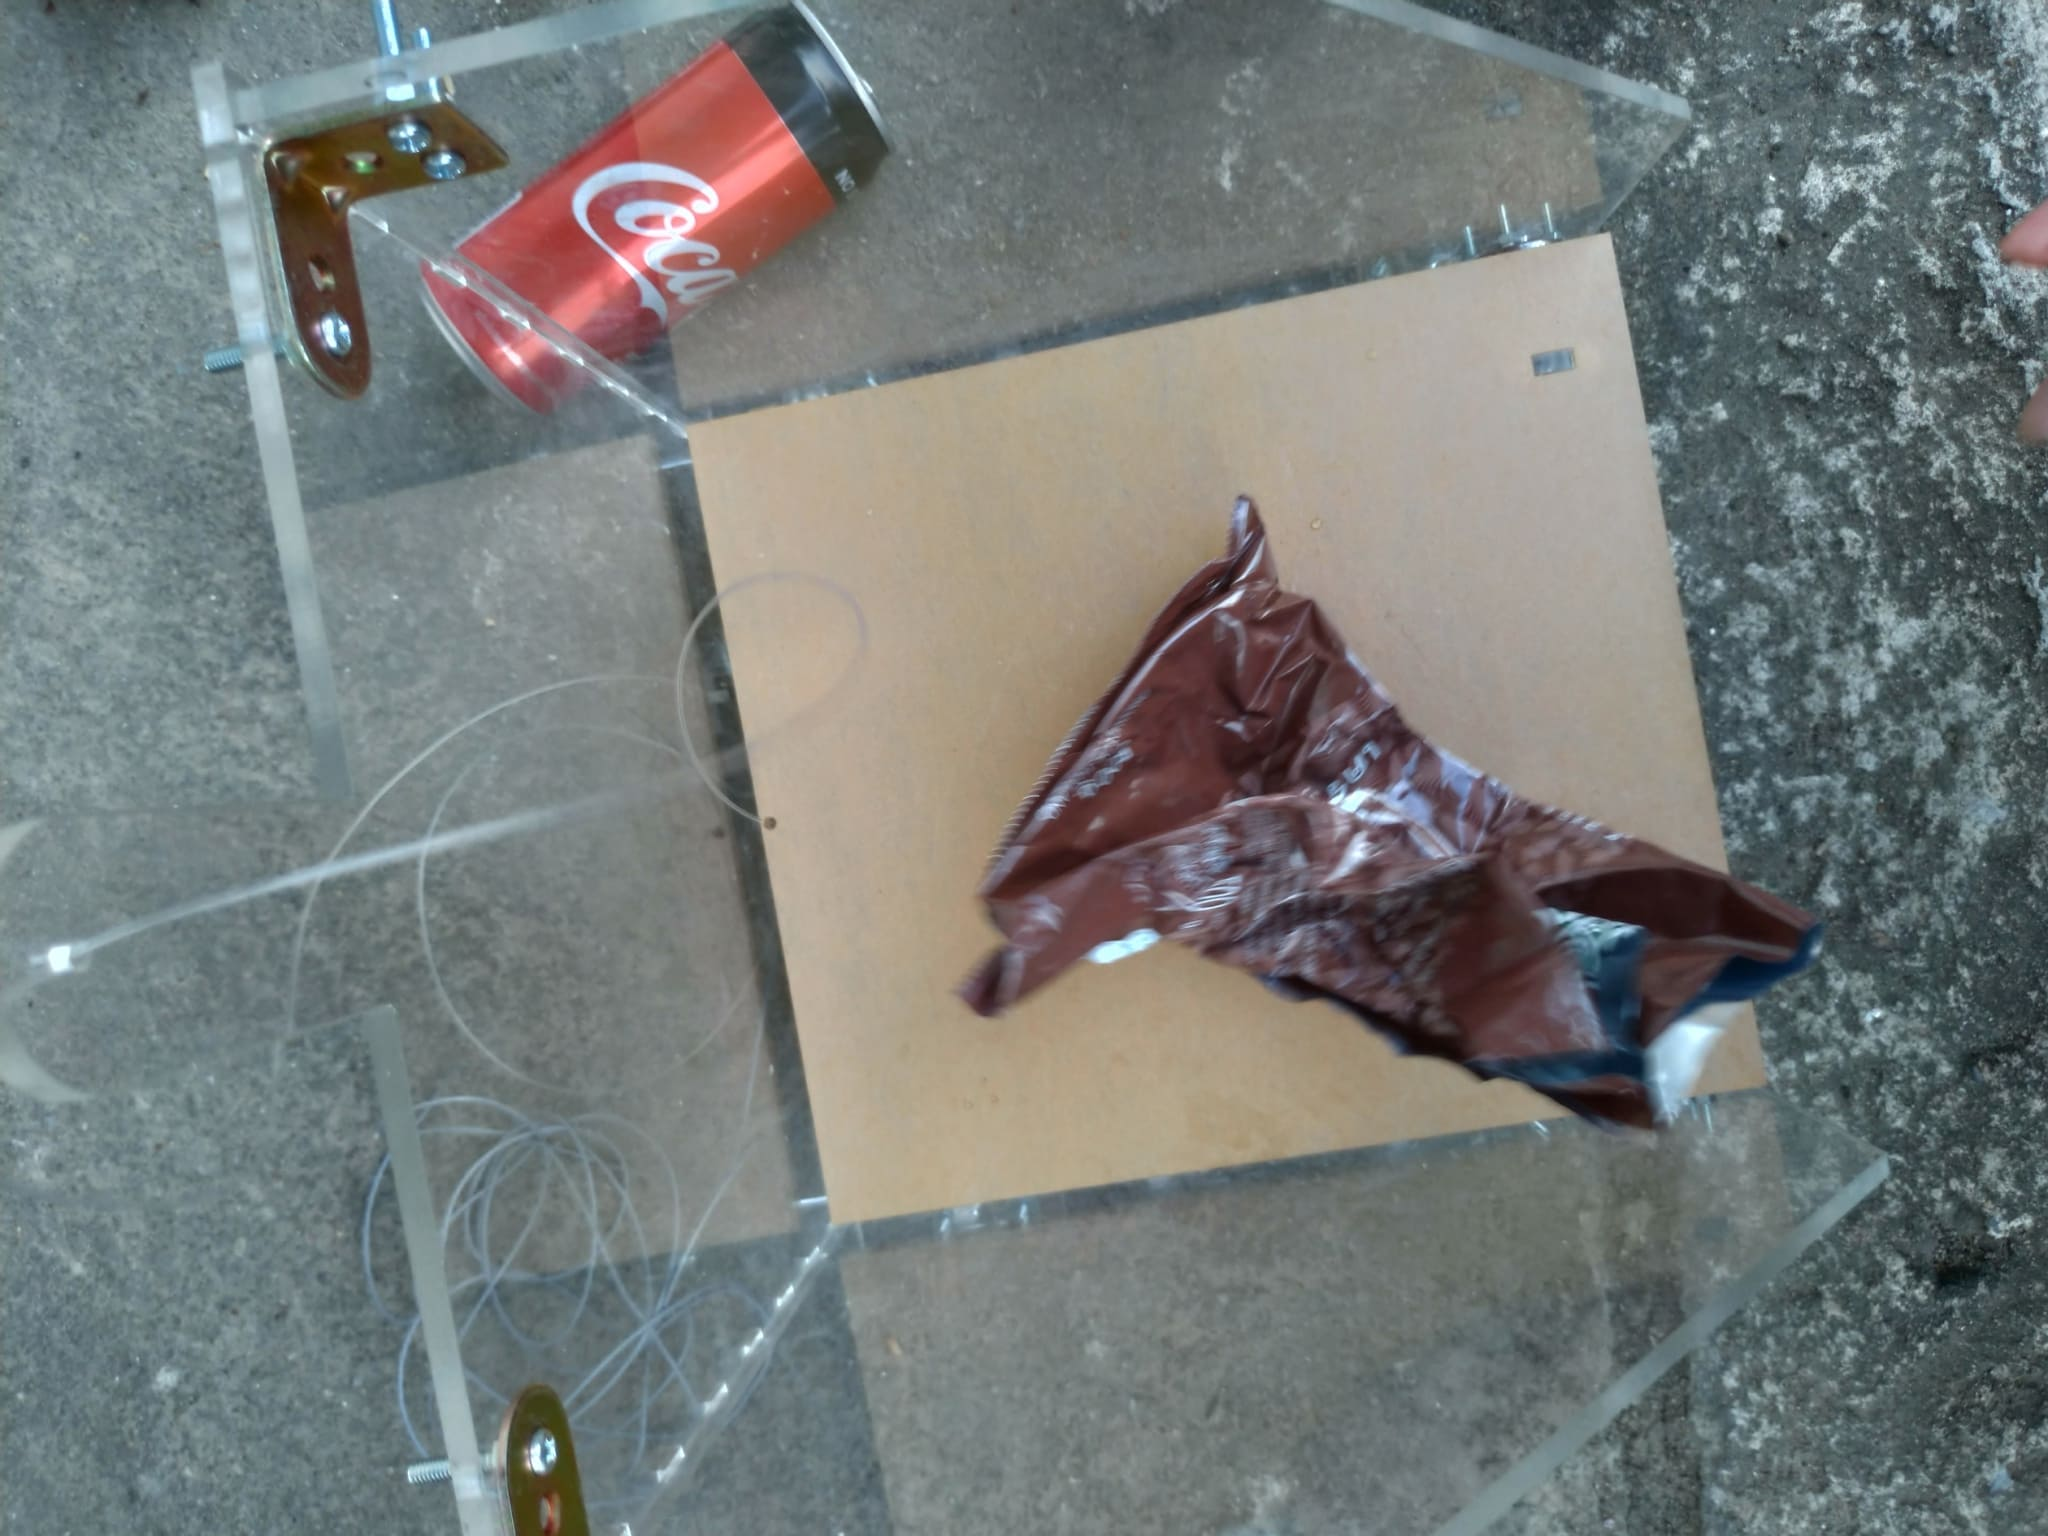AlCan: (419, 2, 898, 411)
Others: (948, 503, 1821, 1141)
